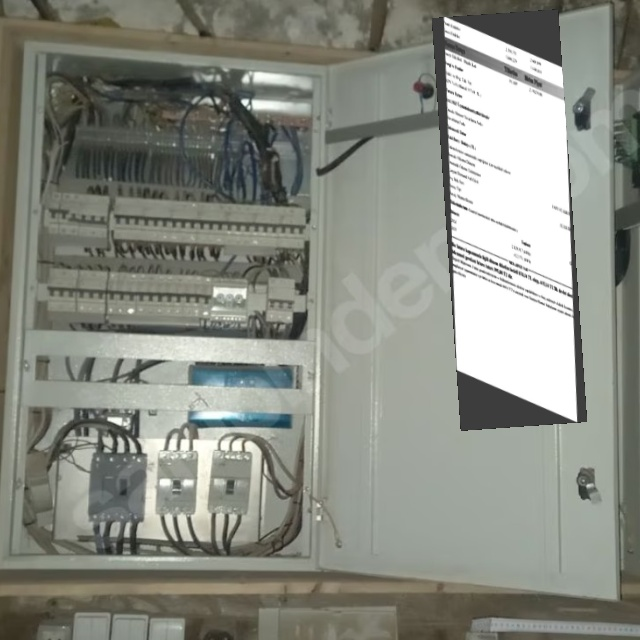electricity-bill: (431, 9, 586, 431)
